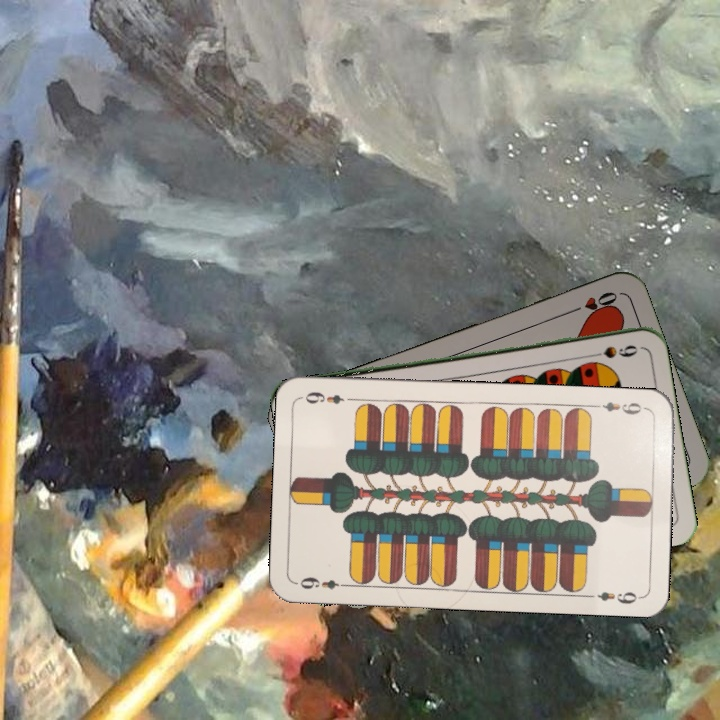E9: (591, 398, 650, 417), (296, 573, 352, 592)
HO: (564, 287, 620, 317)
S9: (582, 341, 640, 361)
